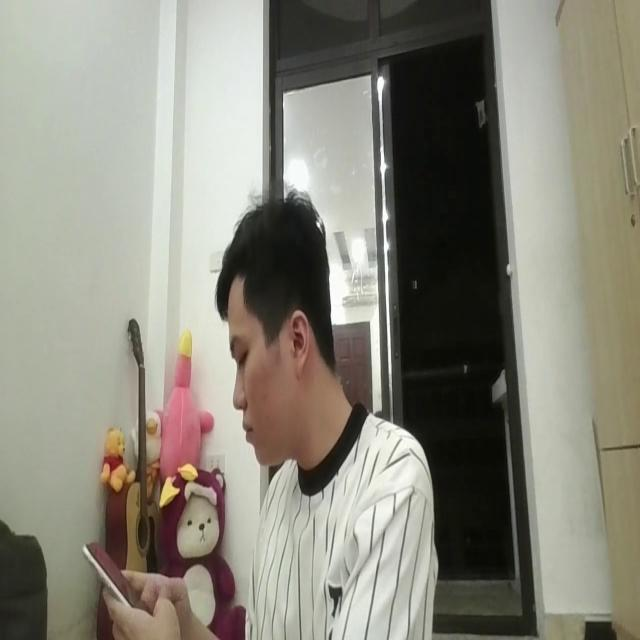phone: (81, 532, 147, 614)
student: (217, 183, 435, 640)
